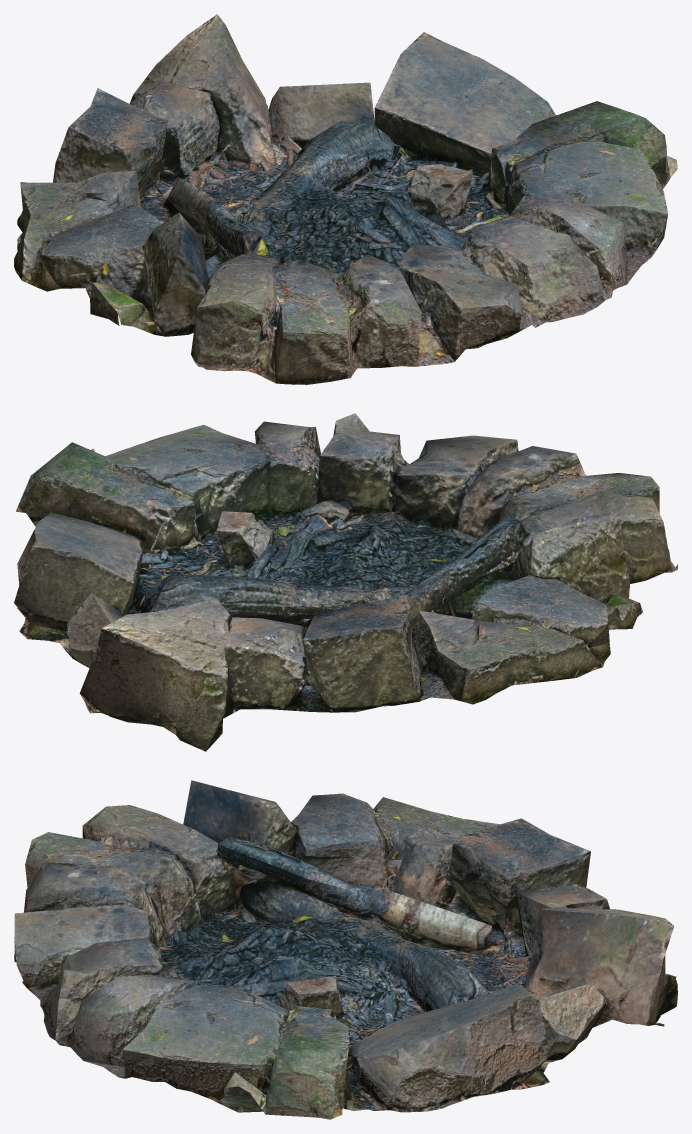
The model's file is fire_pit.glb.
3 views of the same model, one above another, from view 1: azimuth 30°, elevation 25°; view 2: azimuth 150°, elevation 25°; view 3: azimuth 270°, elevation 25° (orthographic).
Visible parts, largest first — view 1: Fire Pit; view 2: Fire Pit; view 3: Fire Pit.
Part boxes in pixels (x1,y1,x2,y2): Fire Pit: [14, 14, 677, 384]; Fire Pit: [14, 413, 677, 751]; Fire Pit: [14, 780, 677, 1119].
Size of the model in its own units: 0.9177 by 0.1684 by 0.8729.
1 material, 1 textured.
